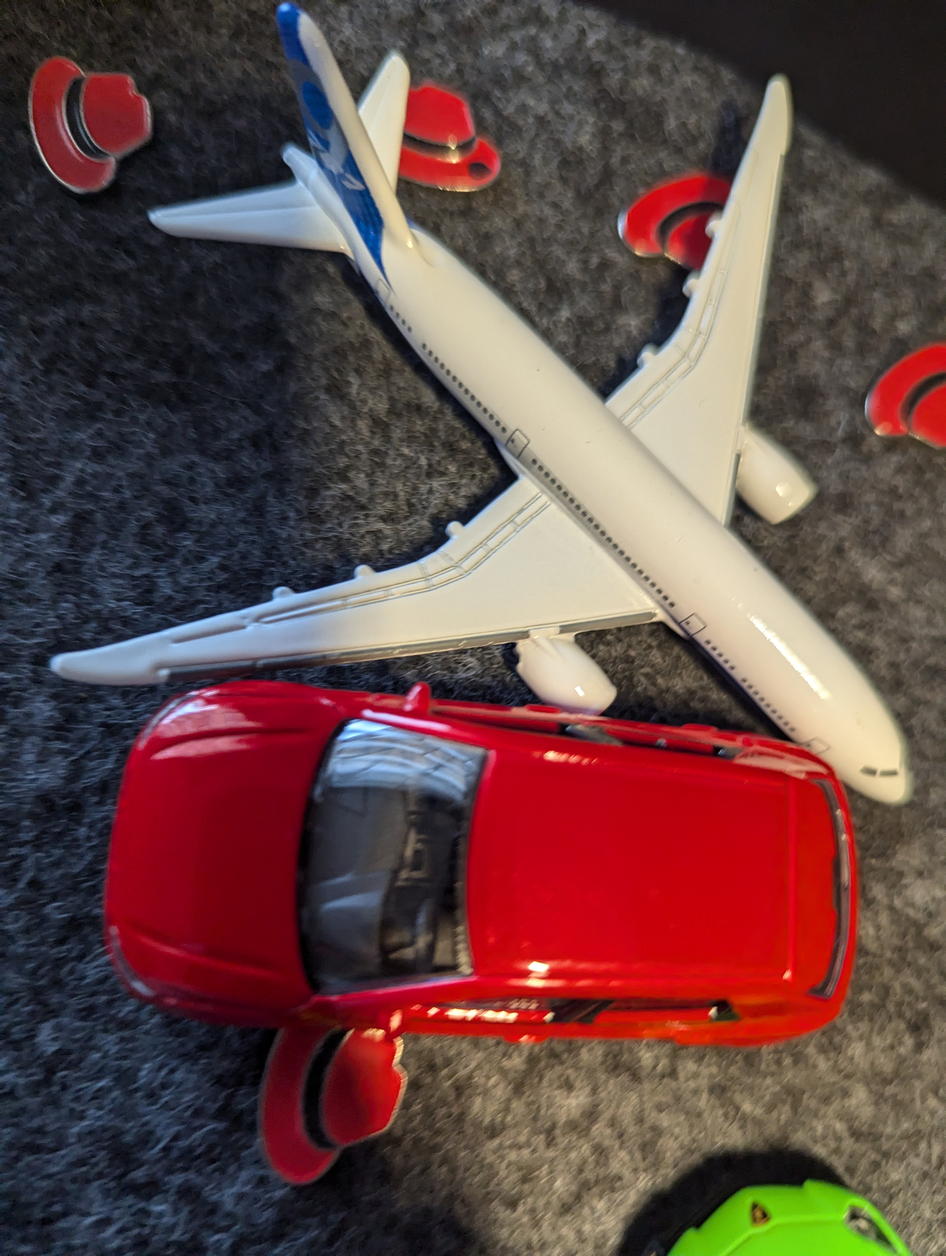Airplane: (23, 0, 923, 827)
Car: (54, 638, 883, 1068)
Red-Hat: (235, 998, 420, 1205), (2, 39, 169, 214), (328, 64, 516, 202), (591, 149, 772, 282), (844, 312, 946, 459)
Scratch: (450, 148, 516, 189)
